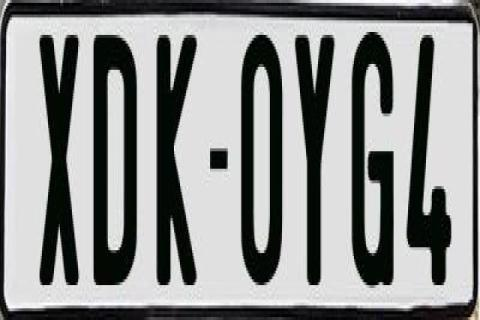0: (406, 26, 458, 282), (238, 29, 282, 297)
D: (93, 26, 143, 291)
G: (351, 29, 395, 303)
K: (154, 26, 202, 291)
X: (40, 35, 80, 291)
Y: (292, 29, 331, 285)
